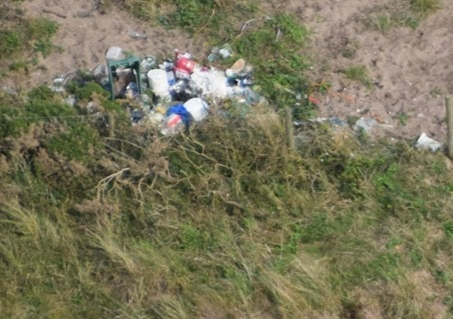together_barrel: (45, 43, 269, 139)
white_in_green: (401, 116, 453, 165), (338, 98, 390, 147)
